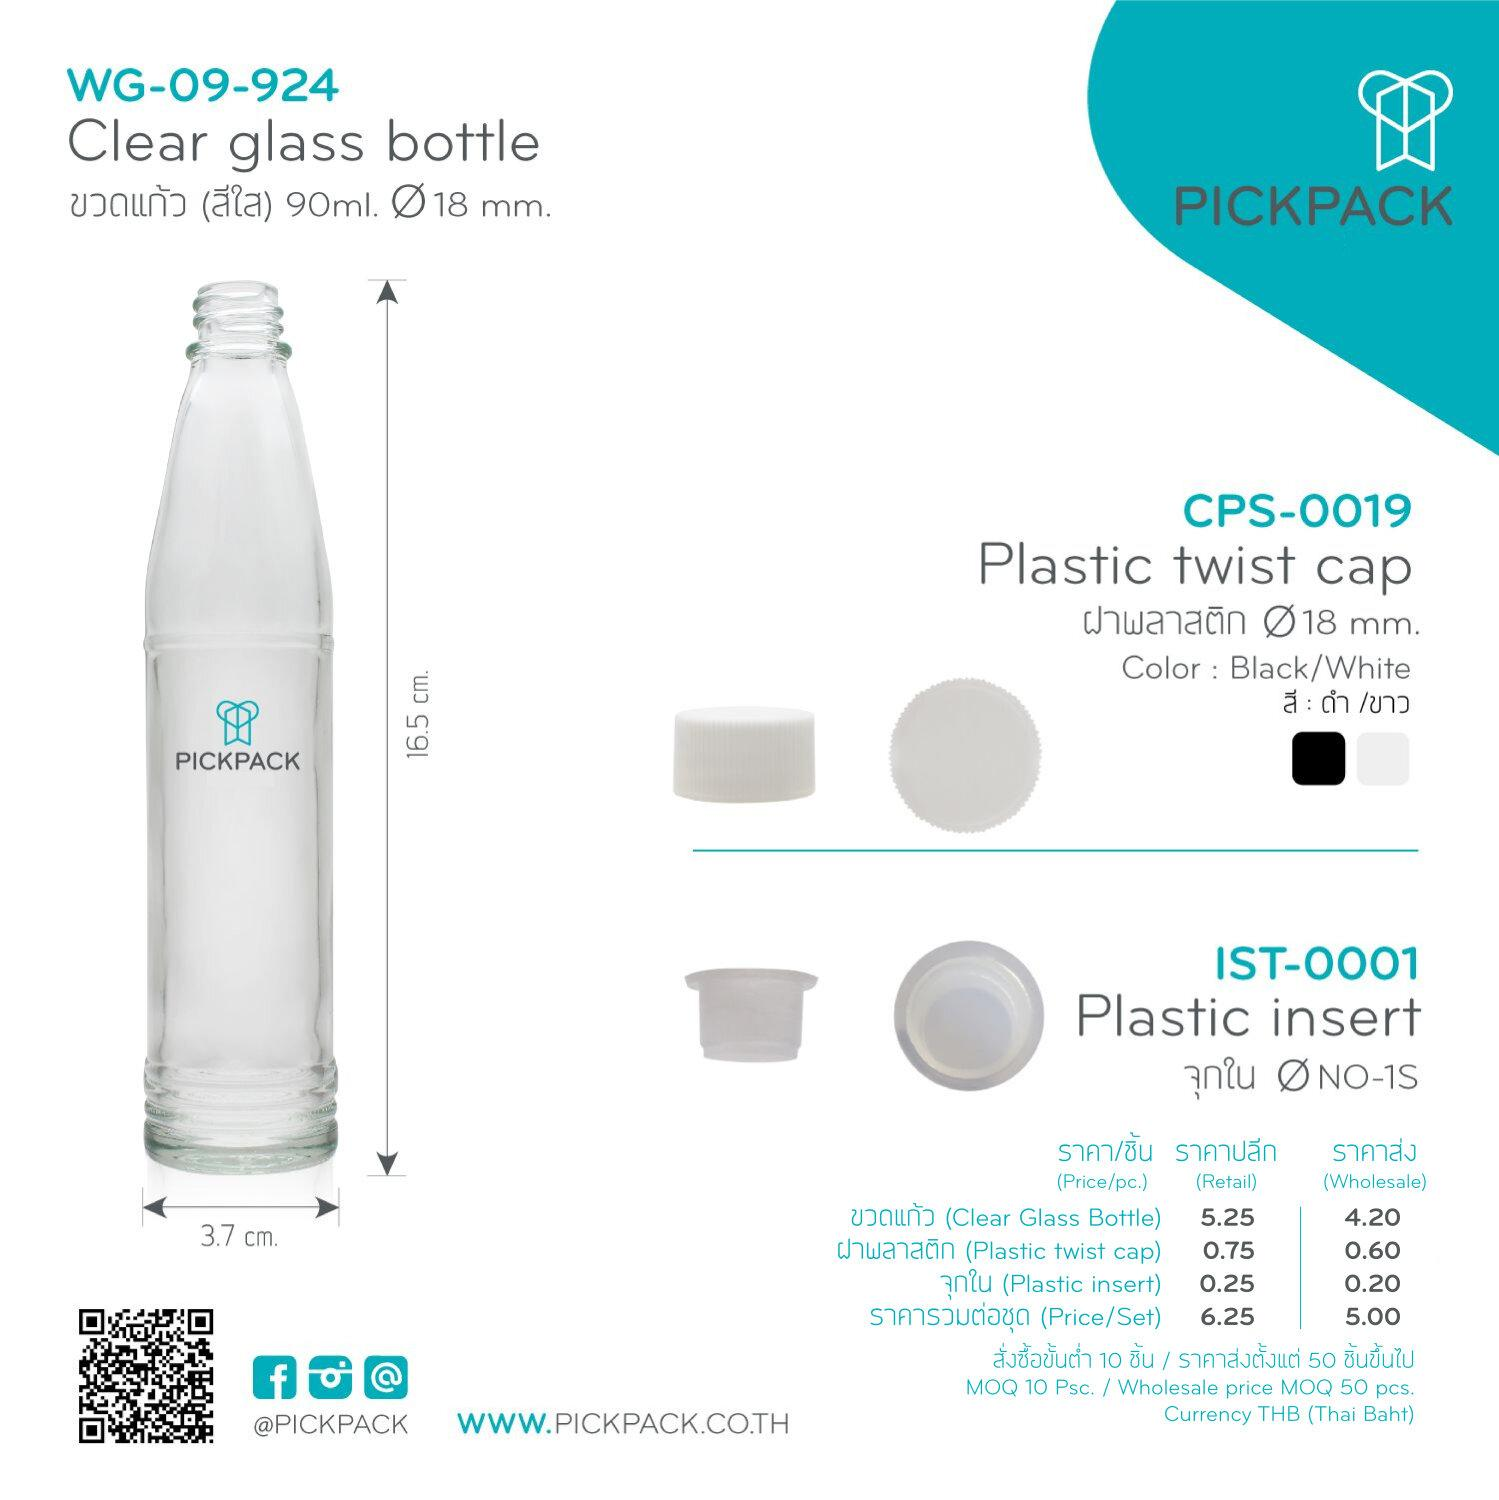glass_bottle: (141, 272, 345, 1182)
